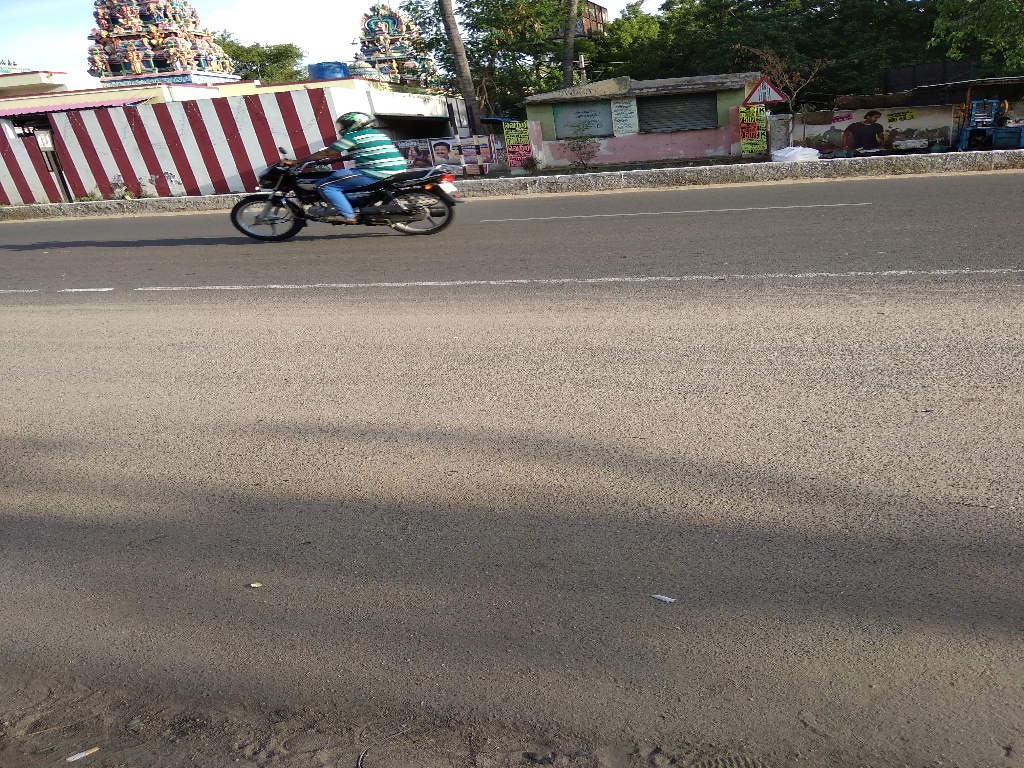biker: (221, 67, 476, 257)
helmet: (327, 99, 378, 155)
